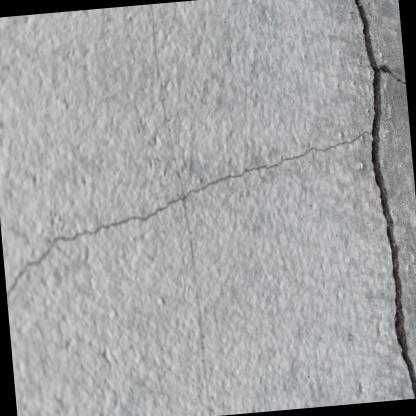crack: (356, 0, 416, 399)
